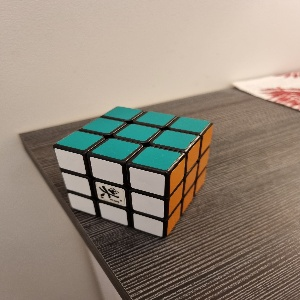cube: (53, 106, 214, 240)
